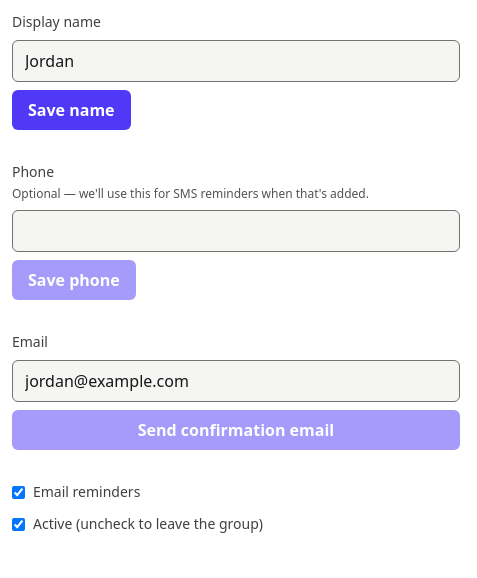
SettingsForm › shows pending-email banner after successful email submit
The width and height of the screenshot is (477, 578).
Step 1. Replace the text in the field labelled "Email" with "fresh@example.com" → coordinates (236, 381), box left=12, top=360, right=460, bottom=402
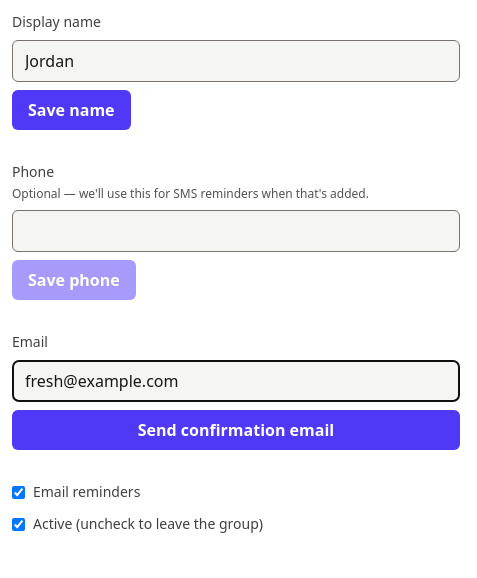
Step 2. Click the button "Send confirmation email" → coordinates (236, 430), box left=12, top=410, right=460, bottom=450
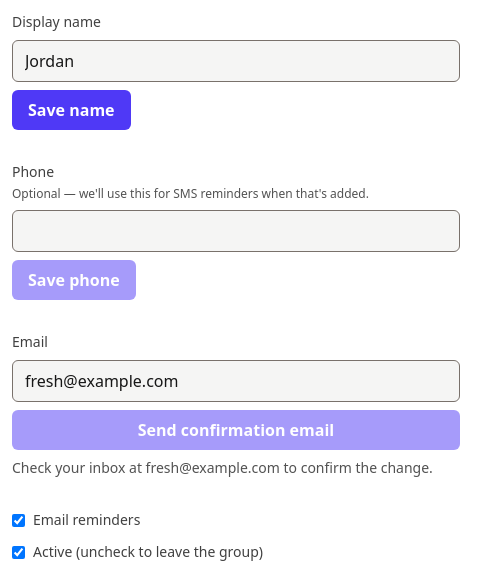
Check: the text "Check your inbox at fresh@example.com to confirm the change." is shown, box left=12, top=458, right=460, bottom=478
